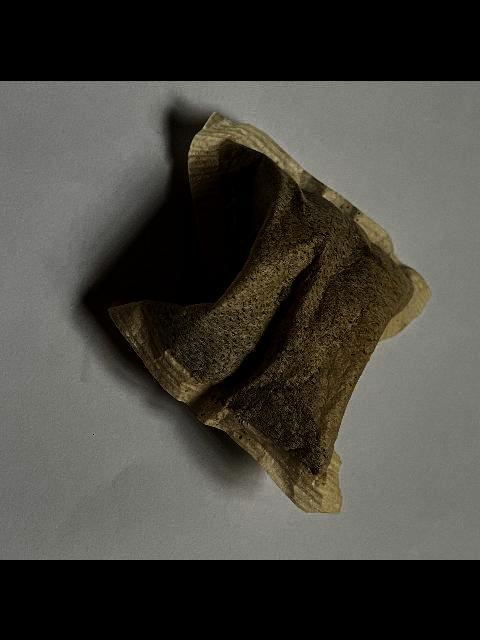teabag: (104, 107, 436, 516)
